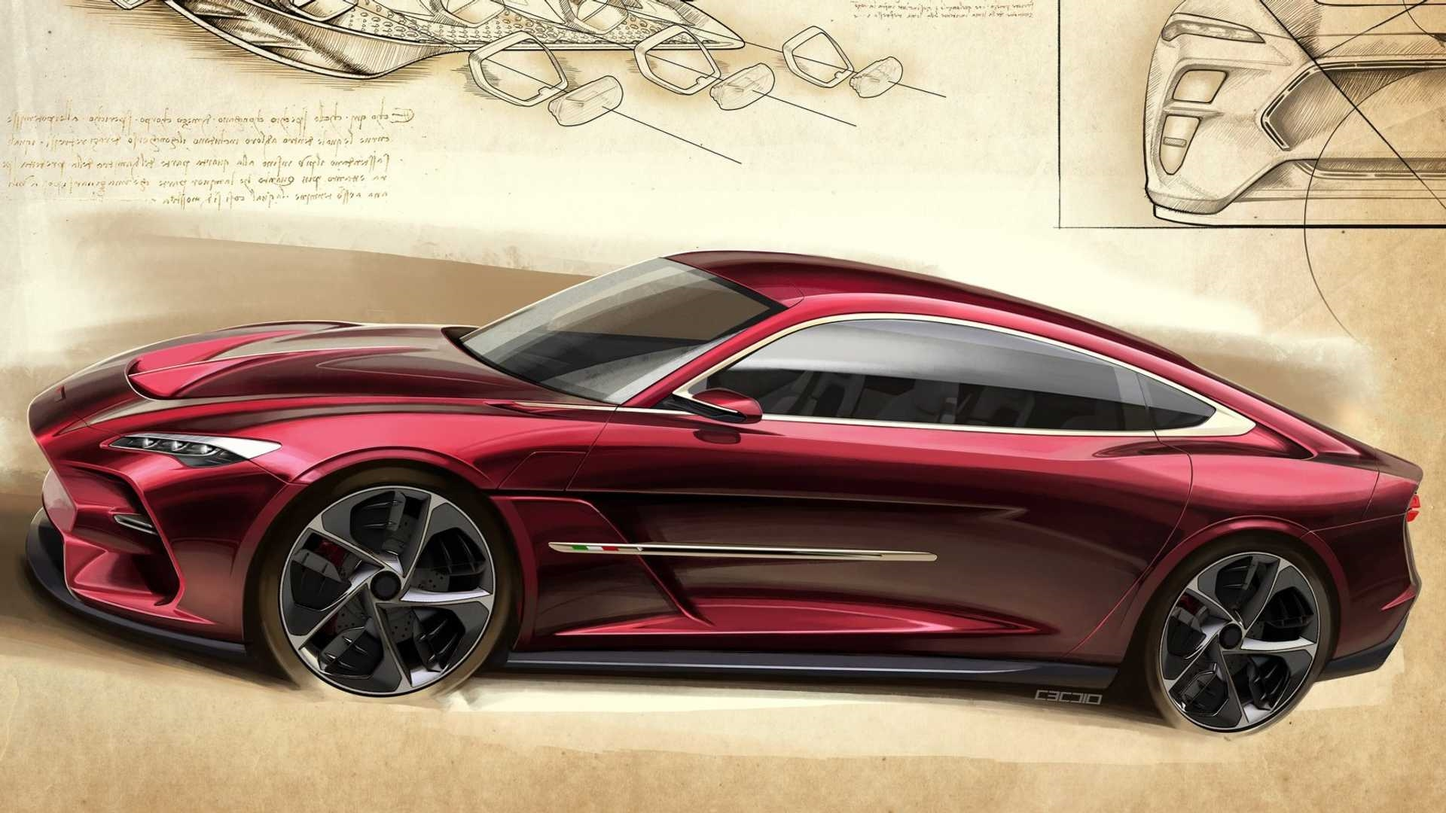other: (17, 210, 1410, 746)
